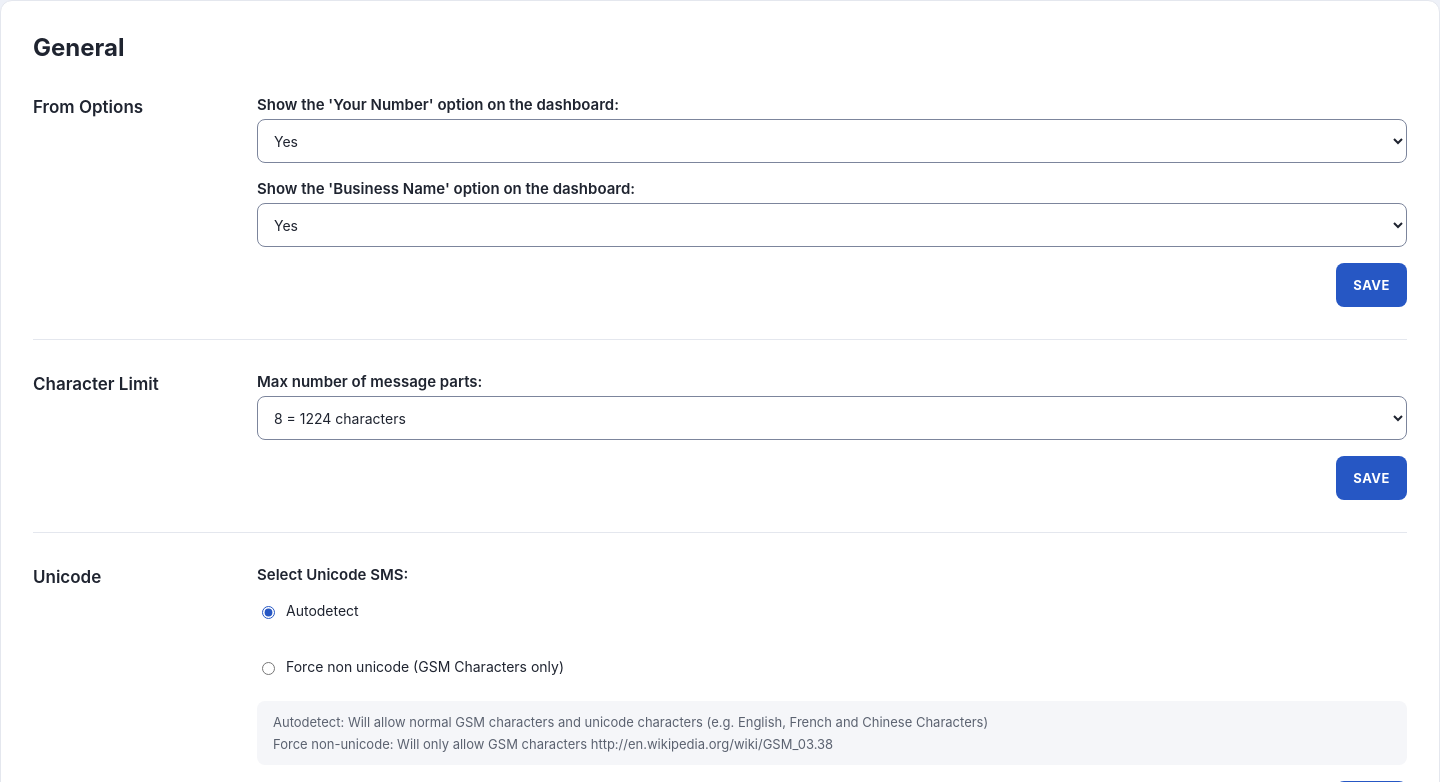
Scenario: MessagingGeneralTab › saves the character limit from its own section
Select "4 = 612 characters" in the dropdown labelled "Max number of message parts:" at (832, 418), box 257,396 -> 1407,440
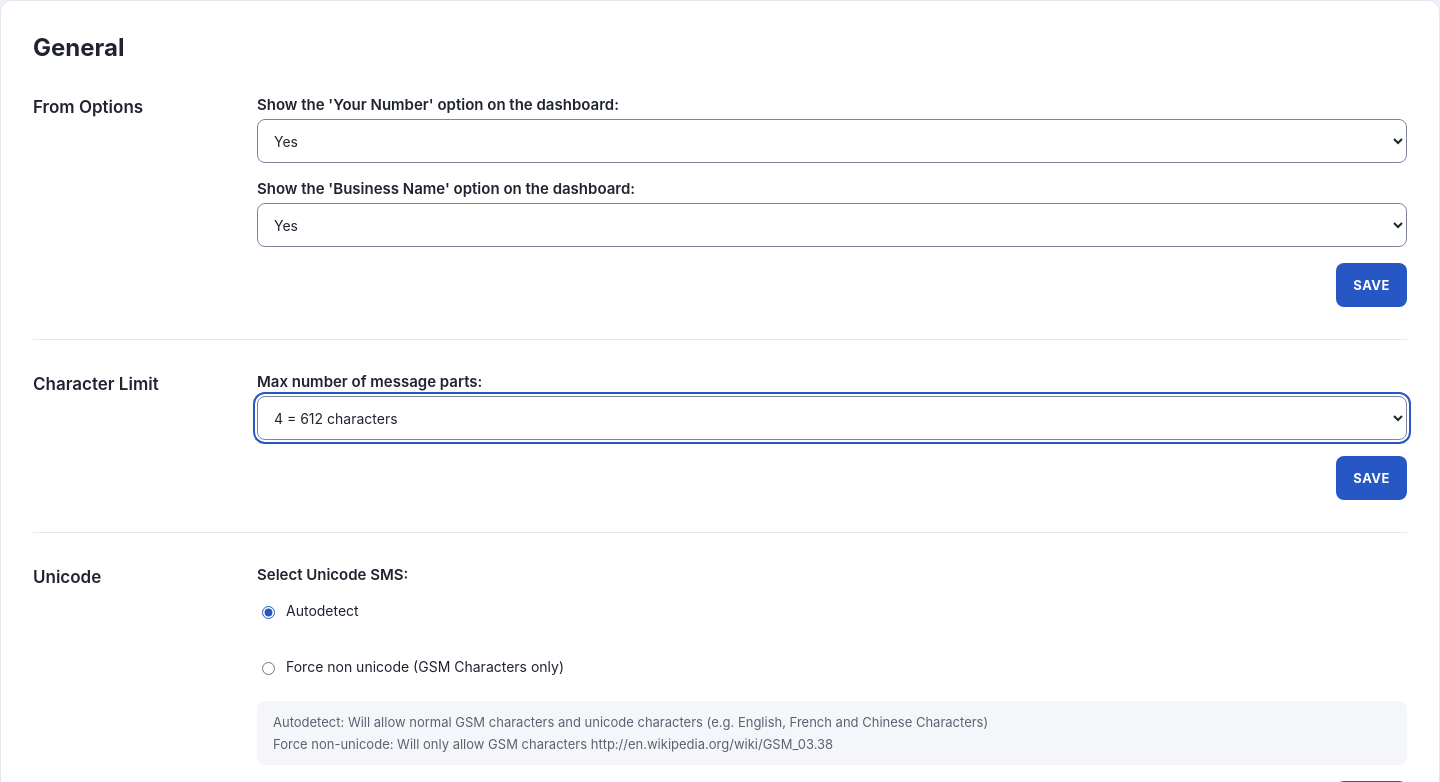
Click the 2nd button "Save" at (1372, 478), box 1336,456 -> 1407,500
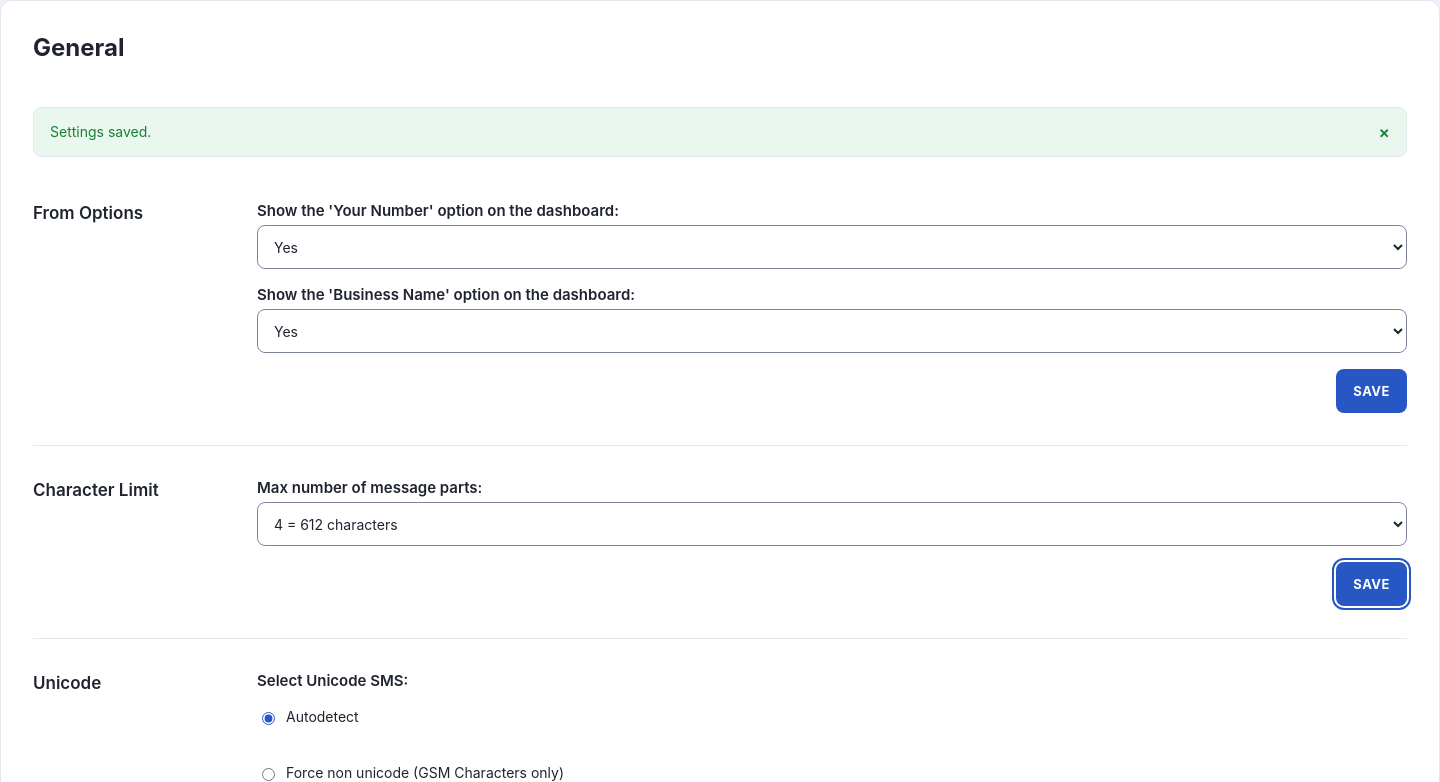
Check: the text "Settings saved." is shown, box 50,123 -> 151,140
